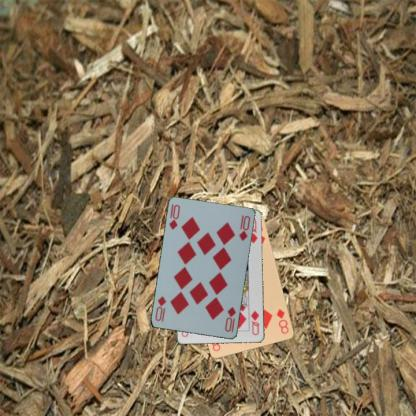10d: (166, 202, 182, 231), (222, 304, 237, 334)
8d: (274, 306, 290, 335)
Qd: (249, 308, 260, 336)
